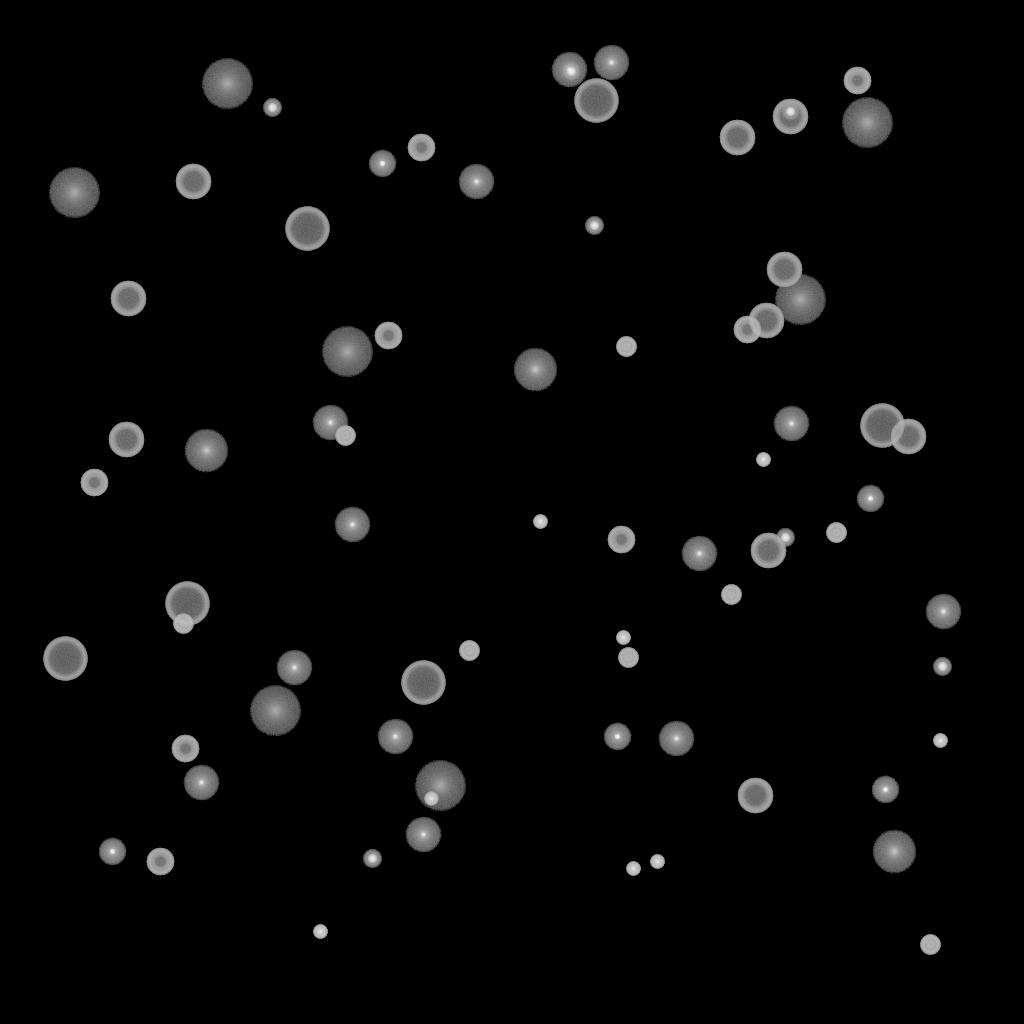depth:-10: (368, 150, 396, 178), (603, 723, 631, 751), (856, 485, 884, 513), (98, 838, 126, 866), (871, 776, 899, 804)
depth:-20: (562, 63, 580, 81), (776, 529, 794, 547), (933, 658, 951, 676), (585, 217, 603, 235), (263, 99, 281, 117), (781, 103, 799, 121), (363, 850, 381, 868)
depth:-30: (933, 734, 947, 748), (313, 925, 327, 939), (626, 862, 640, 876), (533, 515, 547, 529), (424, 792, 438, 806), (756, 453, 770, 467), (650, 855, 664, 869), (616, 631, 630, 645)
depth:-40: (459, 641, 479, 661), (173, 614, 193, 634), (920, 935, 940, 955), (826, 523, 846, 543), (618, 648, 638, 668), (335, 426, 355, 446), (616, 337, 636, 357), (721, 585, 741, 605)
depth:-50: (407, 134, 435, 162), (843, 67, 871, 95), (374, 322, 402, 350), (607, 526, 635, 554), (171, 735, 199, 763), (146, 848, 174, 876), (733, 316, 761, 344), (80, 469, 108, 497)
depth:-60: (750, 533, 786, 569), (175, 164, 211, 200), (110, 281, 146, 317), (748, 303, 784, 339), (766, 252, 802, 288), (737, 778, 773, 814), (890, 419, 926, 455), (719, 120, 755, 156), (772, 99, 808, 135), (108, 422, 144, 458)
depth:-70: (860, 404, 904, 448), (574, 79, 618, 123), (43, 637, 87, 681), (165, 582, 209, 626), (401, 661, 445, 705), (285, 207, 329, 251)
depth:0: (681, 536, 717, 572), (377, 719, 413, 755), (458, 164, 494, 200), (334, 507, 370, 543), (276, 650, 312, 686), (551, 52, 587, 88), (312, 405, 348, 441), (183, 765, 219, 801), (925, 594, 961, 630), (405, 817, 441, 853), (593, 45, 629, 81), (773, 406, 809, 442), (658, 721, 694, 757)
depth:10: (184, 429, 228, 473), (872, 830, 916, 874), (513, 348, 557, 392)
depth:20: (249, 686, 301, 736), (48, 168, 100, 218), (774, 275, 826, 325), (841, 98, 893, 148), (201, 59, 253, 109), (321, 327, 373, 377), (414, 761, 466, 811)
